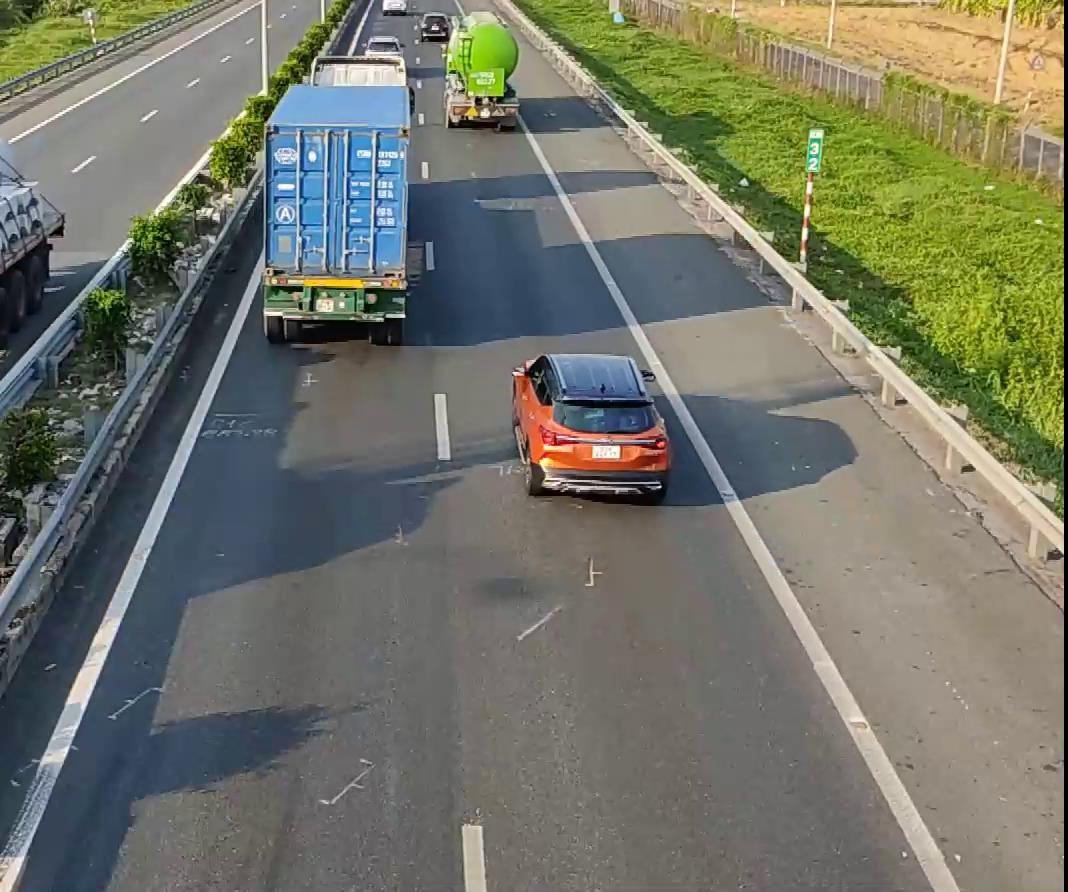car: (510, 351, 672, 498)
container: (257, 51, 415, 348), (440, 8, 518, 128)
